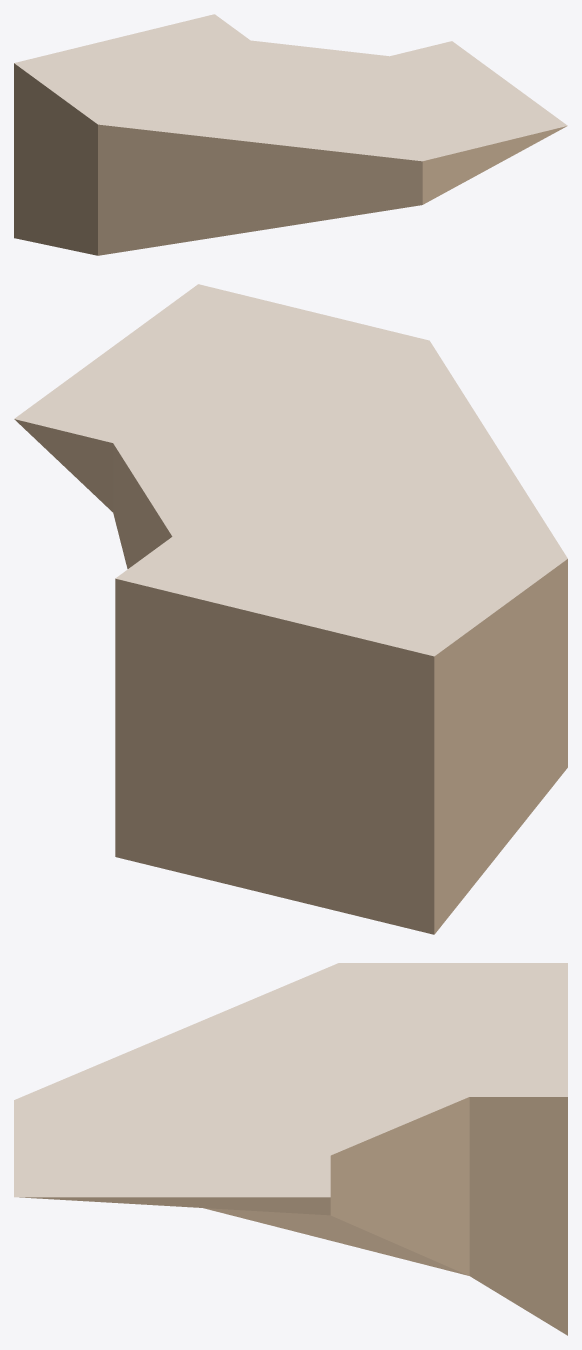
Rendered from Stairs_Under_Ramp_Curved.fbx.
3 renders of one model, top to bottom at view 1: azimuth 30°, elevation 25°; view 2: azimuth 150°, elevation 25°; view 3: azimuth 270°, elevation 25°, orthographic. The views are drawn at different scales.
Parts seen in each view (by area): view 1: Sandstone_Floor, Sandstone_Trim.object1; view 2: Sandstone_Trim.object1, Sandstone_Floor; view 3: Sandstone_Floor, Sandstone_Trim.object1.
Part boxes in pixels (x1,y1,x2,y2): Sandstone_Floor: (14,14,567,161); Sandstone_Trim.object1: (14,63,566,255); Sandstone_Trim.object1: (14,419,567,934); Sandstone_Floor: (14,284,567,656); Sandstone_Floor: (14,963,567,1197); Sandstone_Trim.object1: (19,1097,567,1335).
Bounding box in the file's own units: 2.1 × 1 × 2.1.
